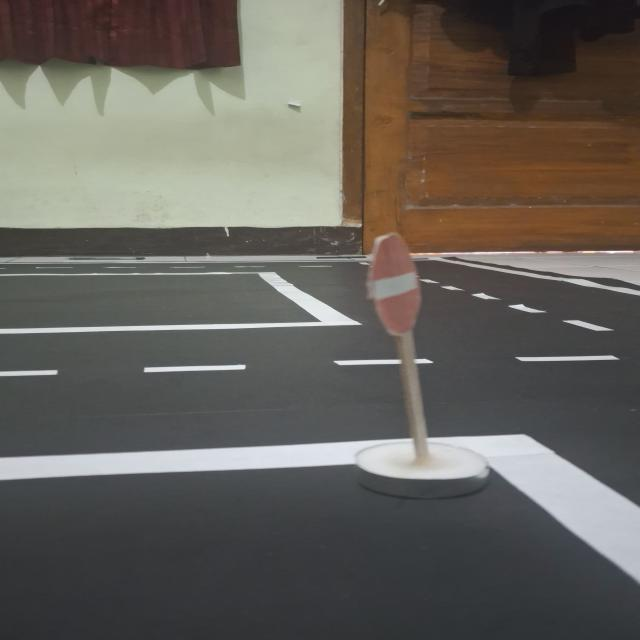Dilarang Masuk: (371, 233, 420, 335)
